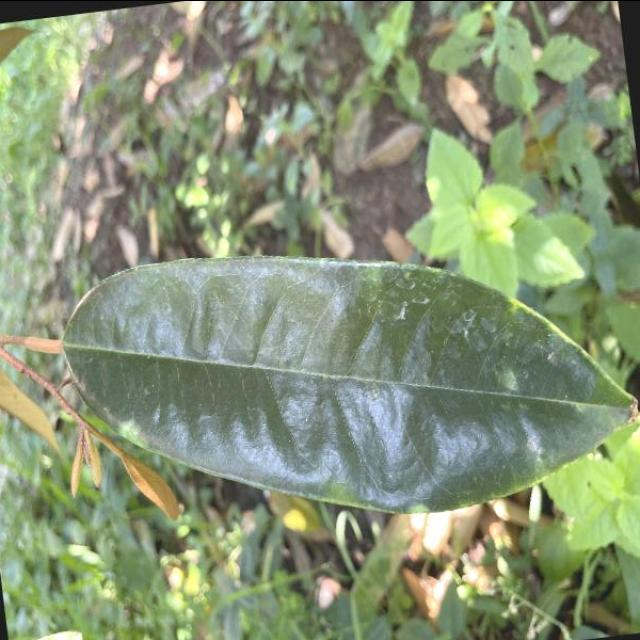No Disease: (32, 194, 640, 566)
